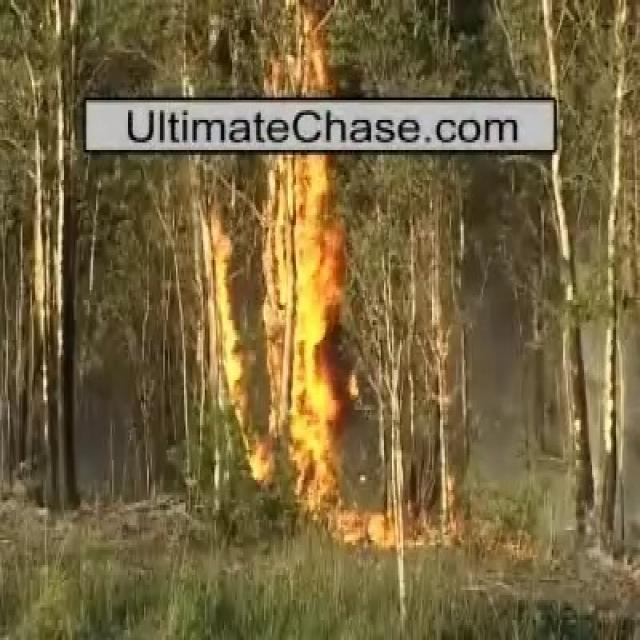fire: (282, 155, 336, 510)
